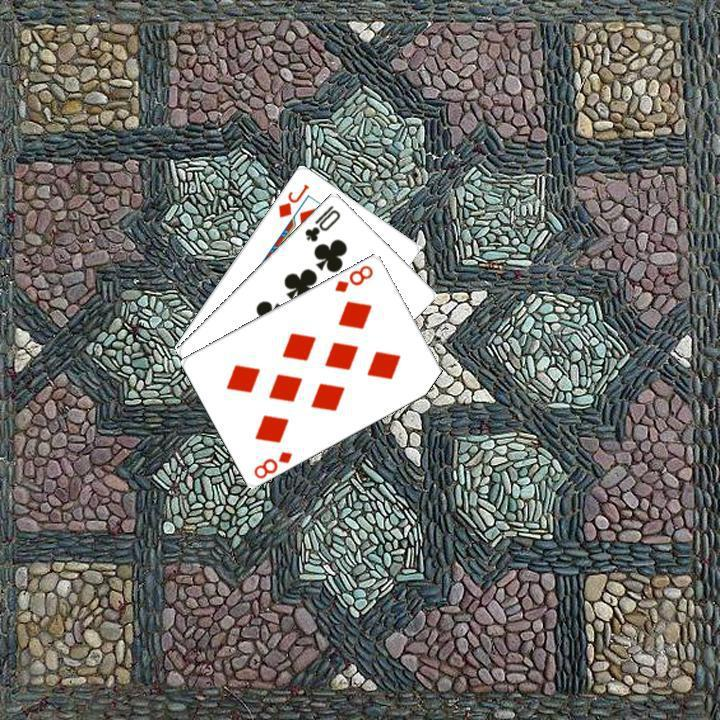10: (300, 200, 343, 244)
8: (249, 446, 294, 481), (330, 260, 375, 294)
J: (274, 179, 311, 219)
